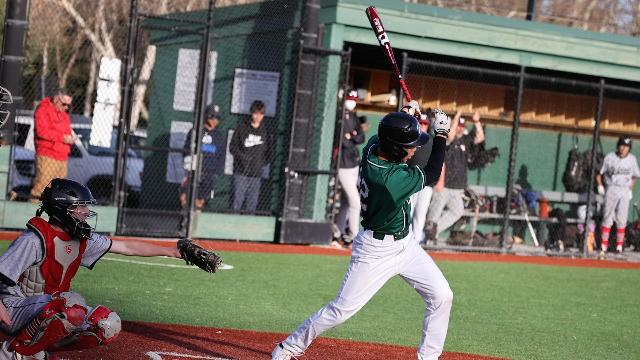baseball bat: (364, 6, 418, 100)
